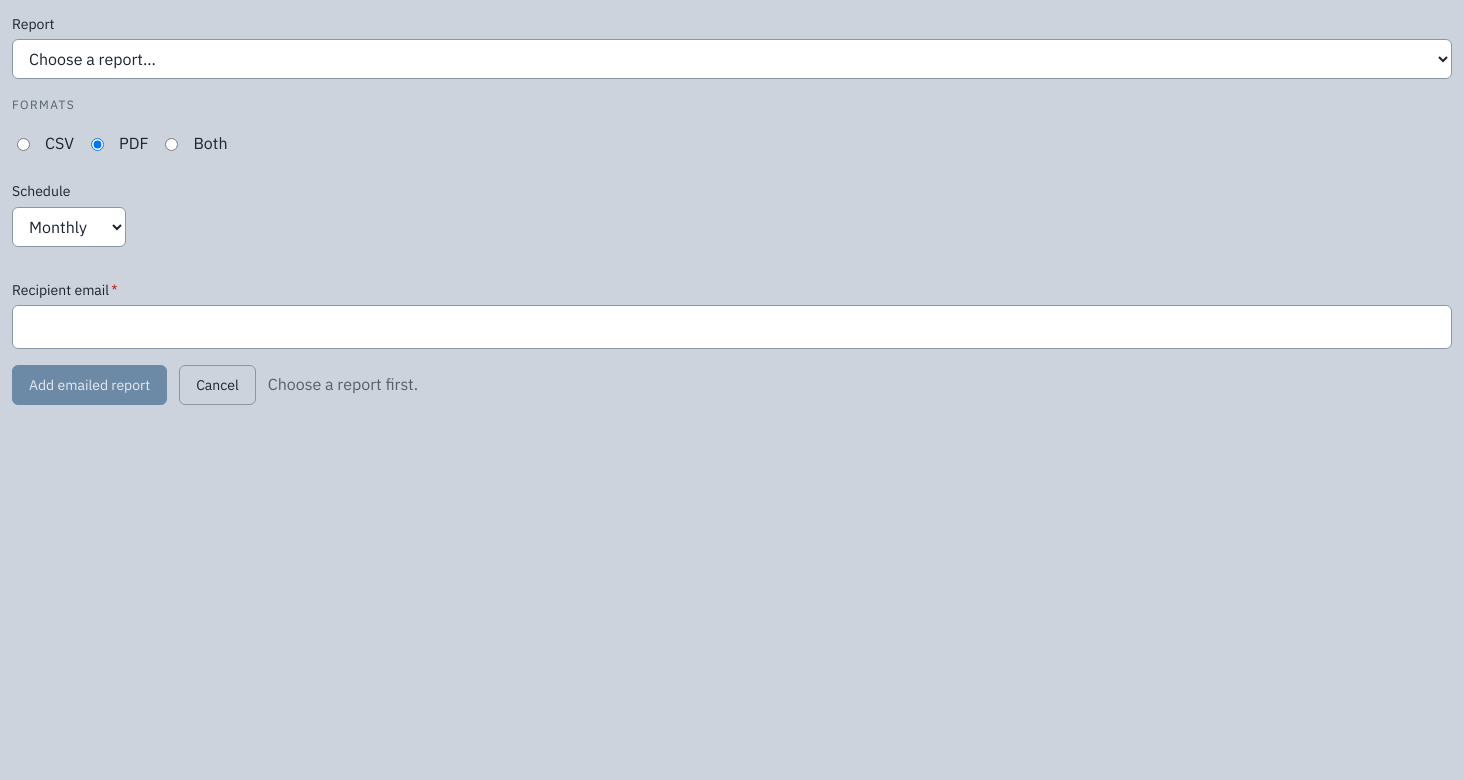
Scenario: SubscriptionForm › shows a refused recipient under the address
Select "Members" in the dropdown labelled "Report" at (732, 59), box top-left (12, 39), bottom-right (1452, 79)
(page scrolled)
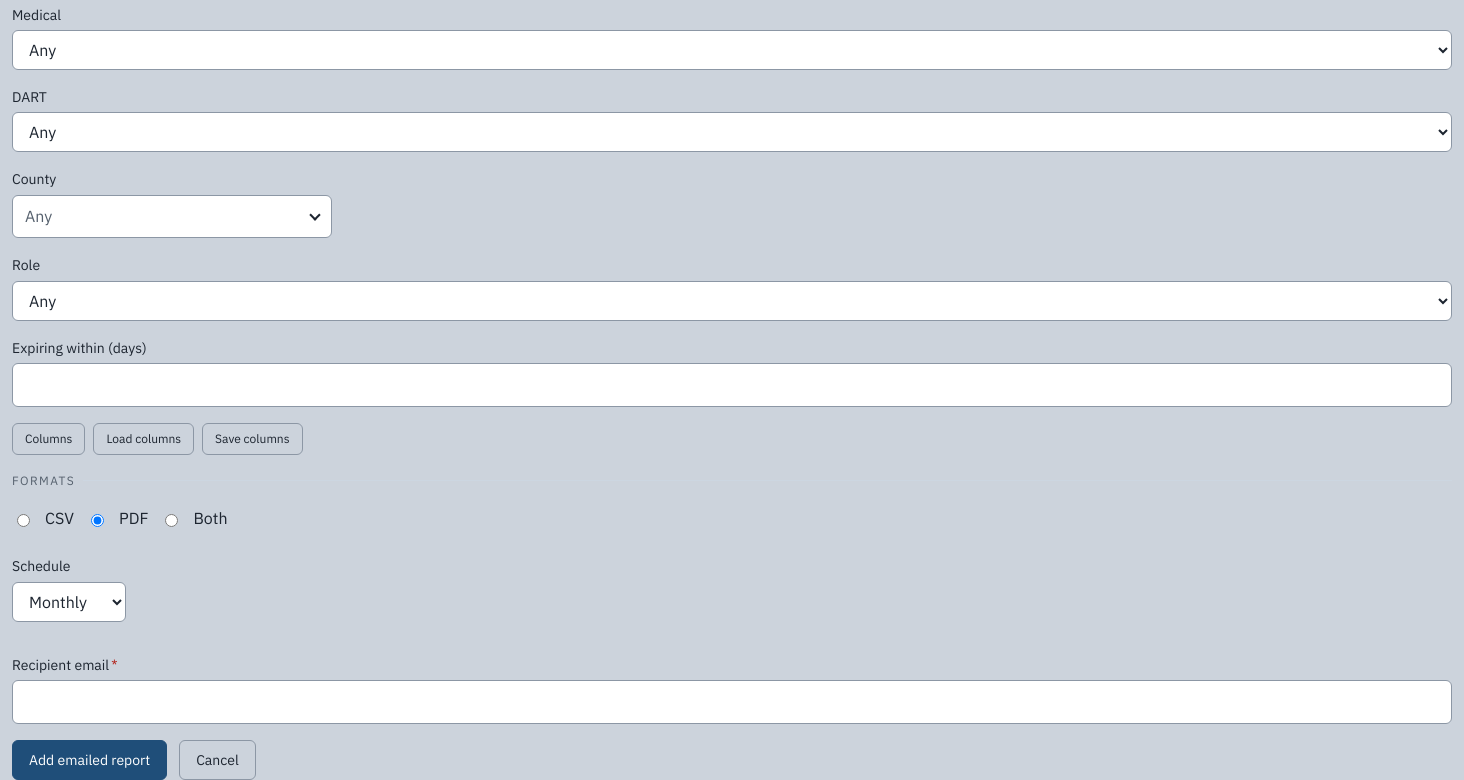
Type "tessa@example.org" into the field labelled "Recipient email*" at (732, 702), box top-left (12, 680), bottom-right (1452, 724)
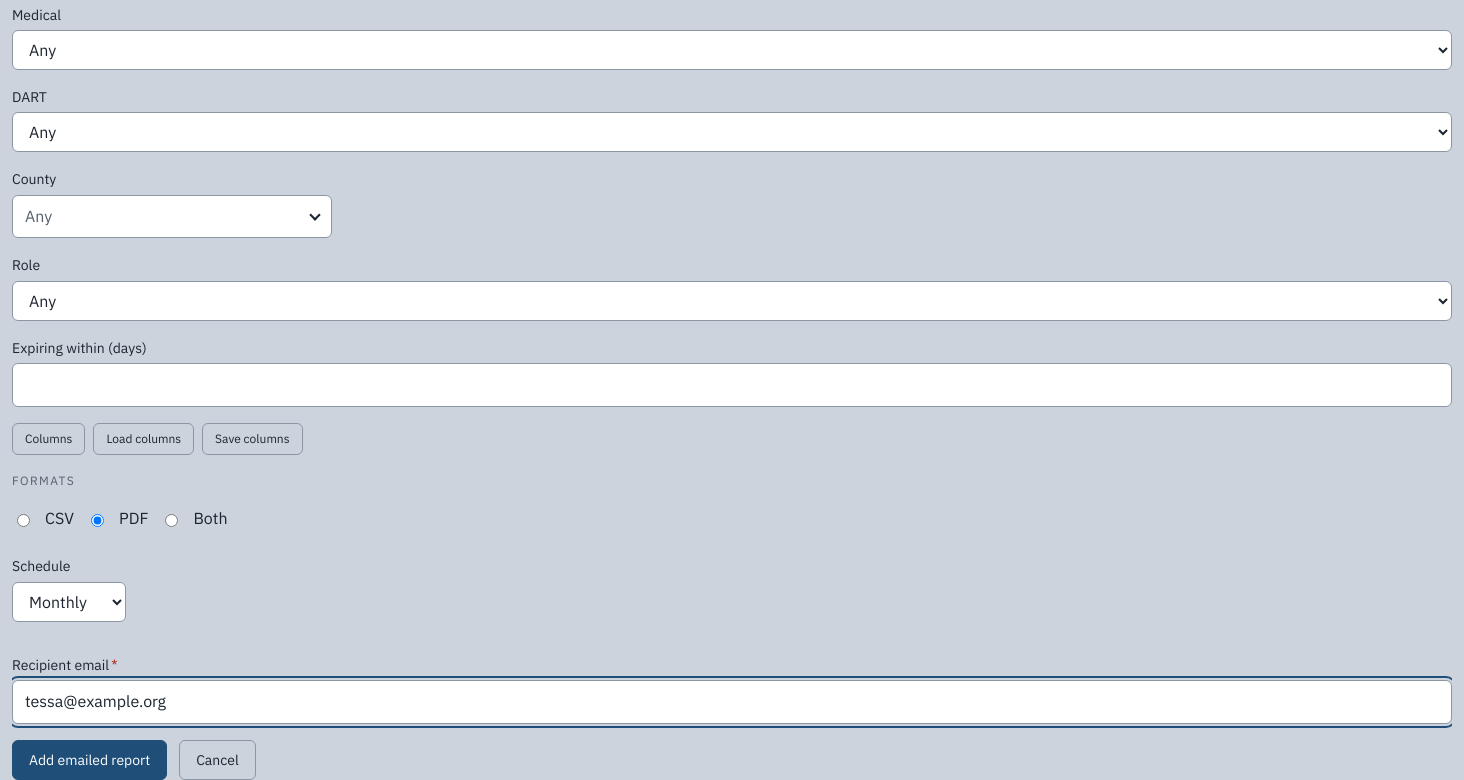
Click the button "Add emailed report" at (90, 760), box top-left (12, 740), bottom-right (167, 779)
(page scrolled)
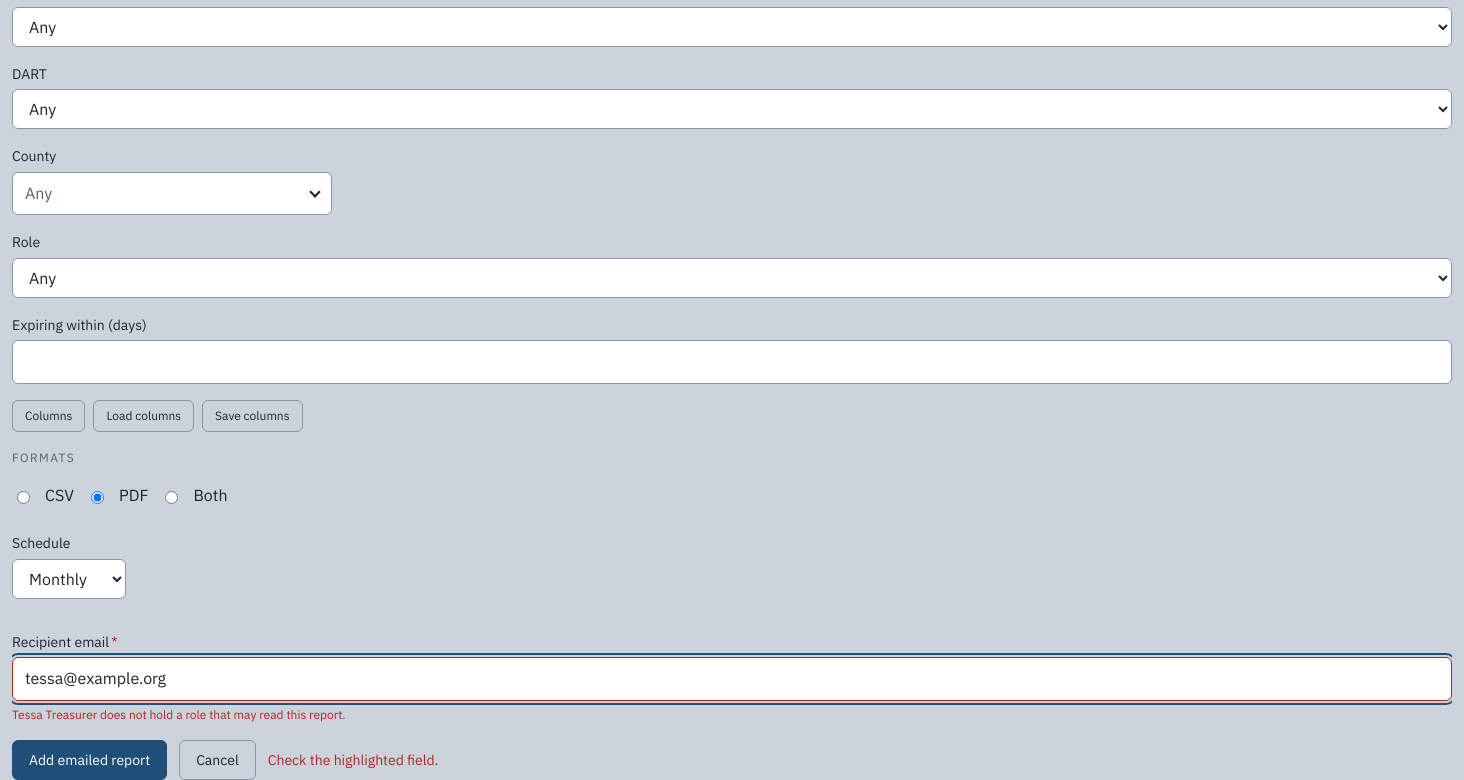
Result: the message "Tessa Treasurer does not hold a role that may read this report." is shown at top-left (12, 707), bottom-right (346, 722)
